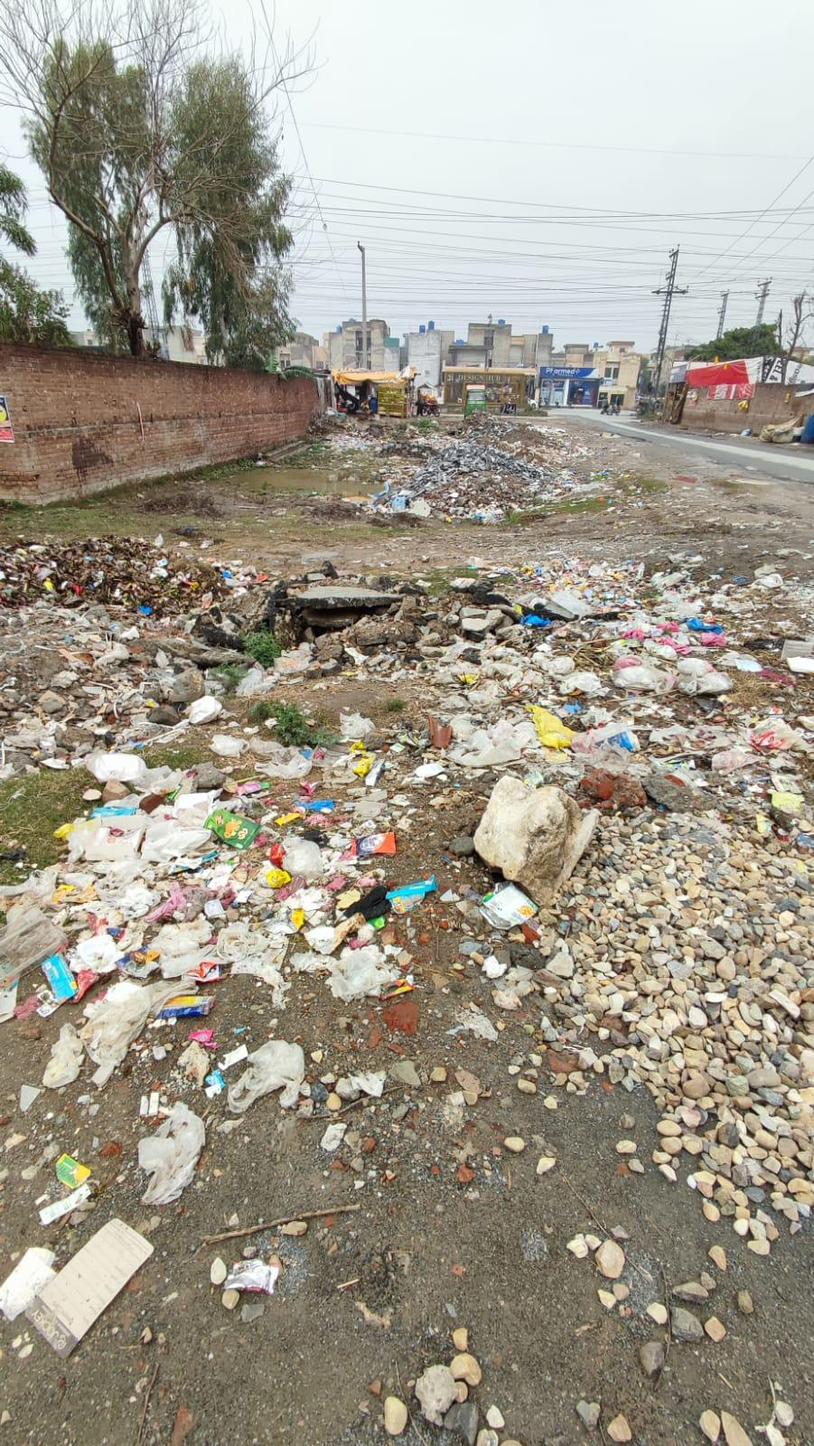garbage: (16, 495, 814, 1206), (546, 706, 560, 738)
